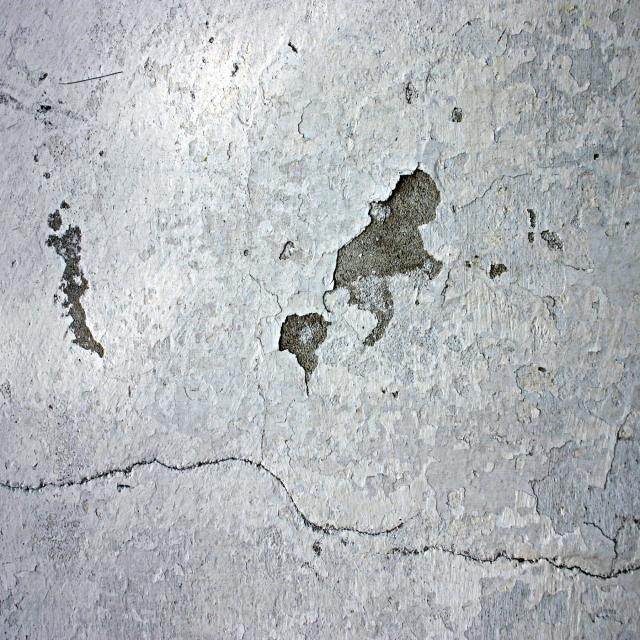Wall_Cracks: (6, 98, 636, 631)
